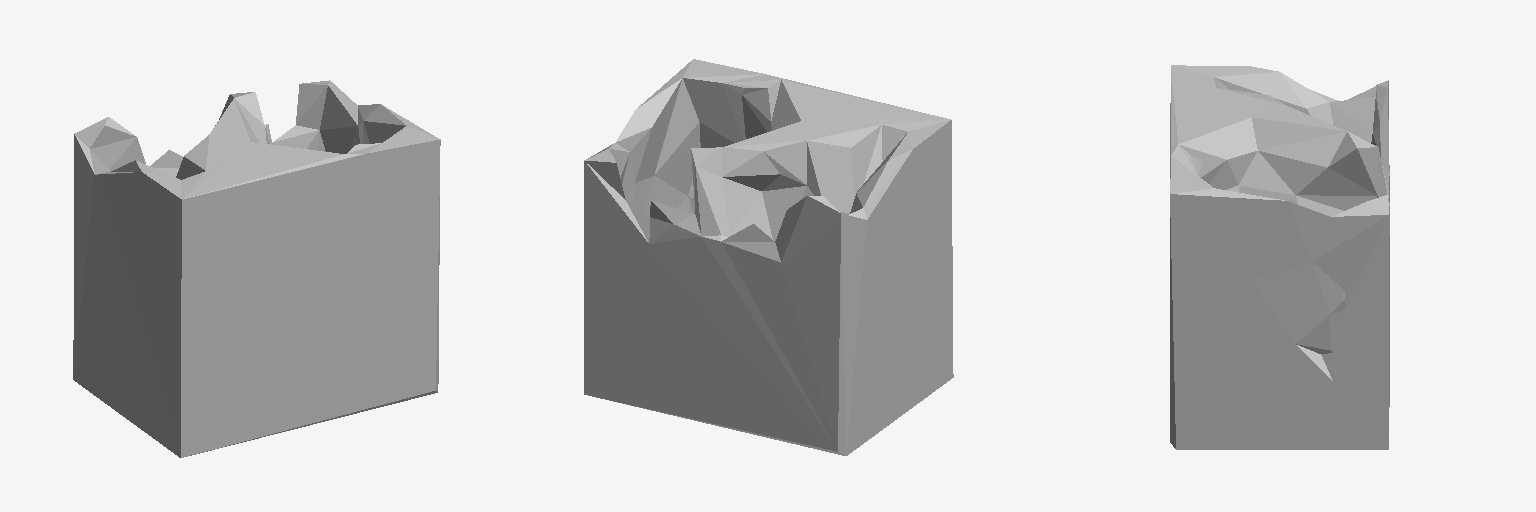
The picture shows the model from 3 angles: view 1: azimuth 30°, elevation 25°; view 2: azimuth 150°, elevation 25°; view 3: azimuth 270°, elevation 25°; orthographic projection.
Parts seen in each view (by area): view 1: Liquid_Domain; view 2: Liquid_Domain; view 3: Liquid_Domain.
Part boxes in pixels (left/top/right/bottom): Liquid_Domain: left=73, top=80, right=440, bottom=457; Liquid_Domain: left=584, top=59, right=953, bottom=455; Liquid_Domain: left=1170, top=65, right=1389, bottom=449.
Size of the model in its own units: 16.98 by 16.22 by 12.45.